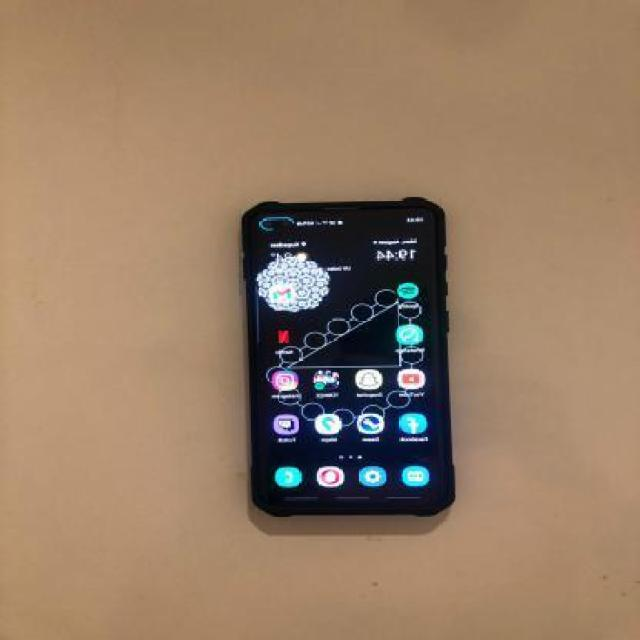mobile: (240, 196, 452, 518)
